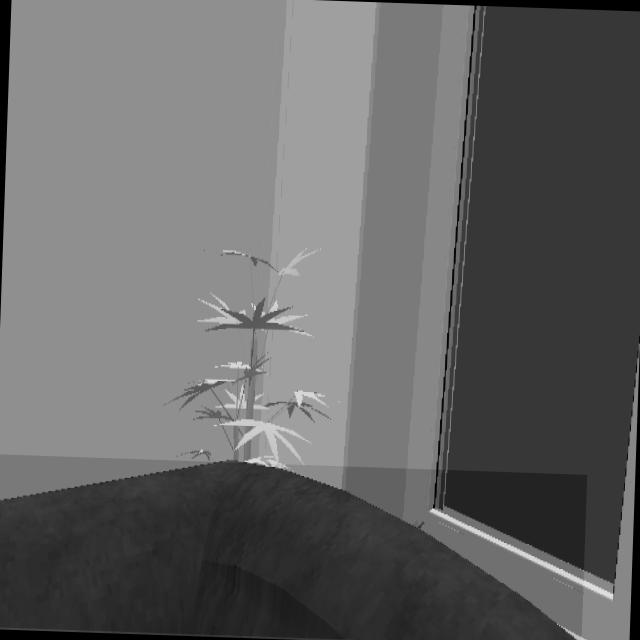sofa: (0, 462, 574, 640)
